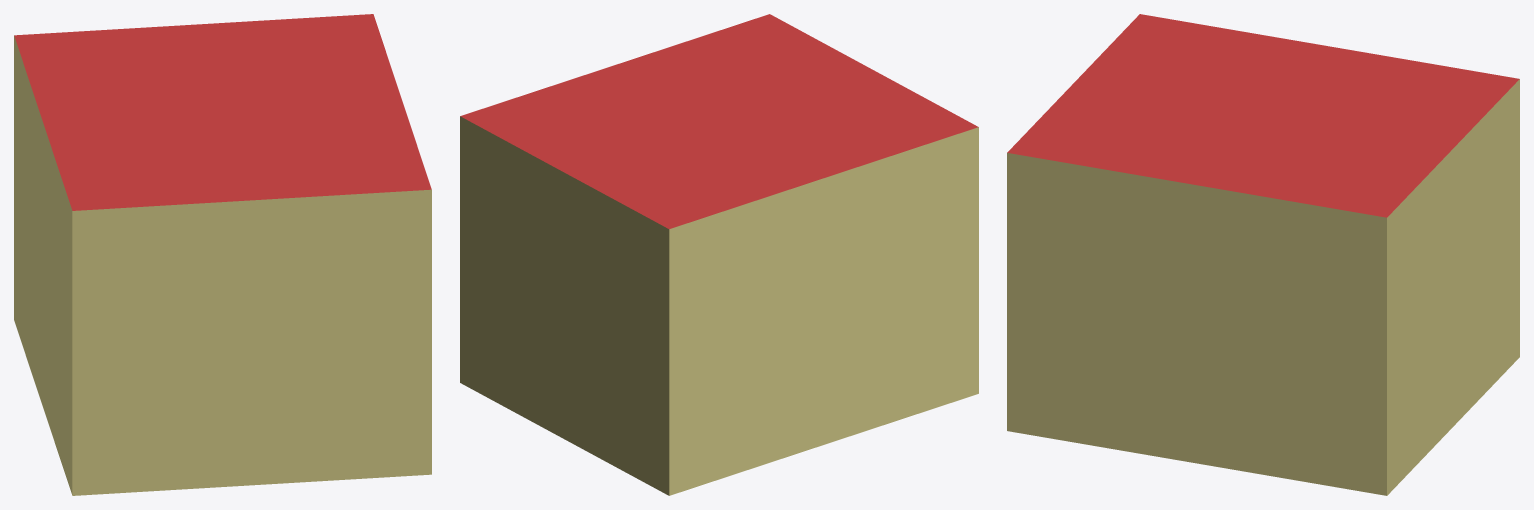
3 views of the same model, side by side, from view 1: azimuth 30°, elevation 25°; view 2: azimuth 150°, elevation 25°; view 3: azimuth 270°, elevation 25° (orthographic). The views are drawn at different scales.
Size of the model in its own units: 9.32 by 9.91 by 5.93.
